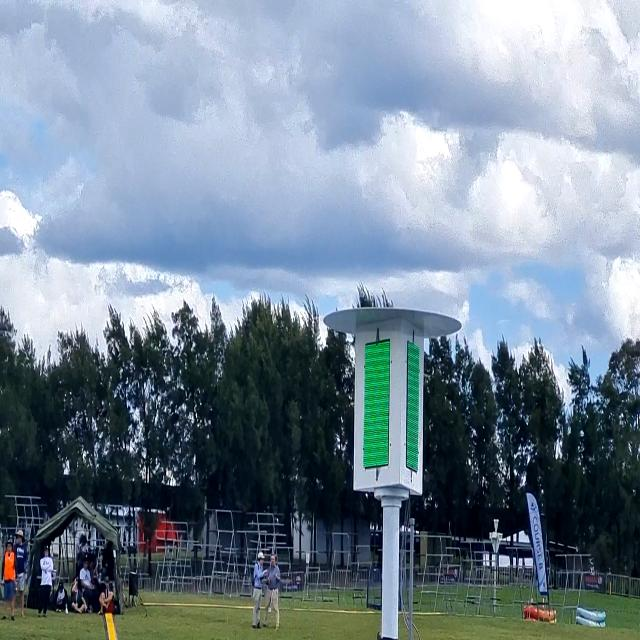led: (359, 334, 394, 478)
